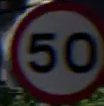Speed limit: (5, 6, 98, 97)
